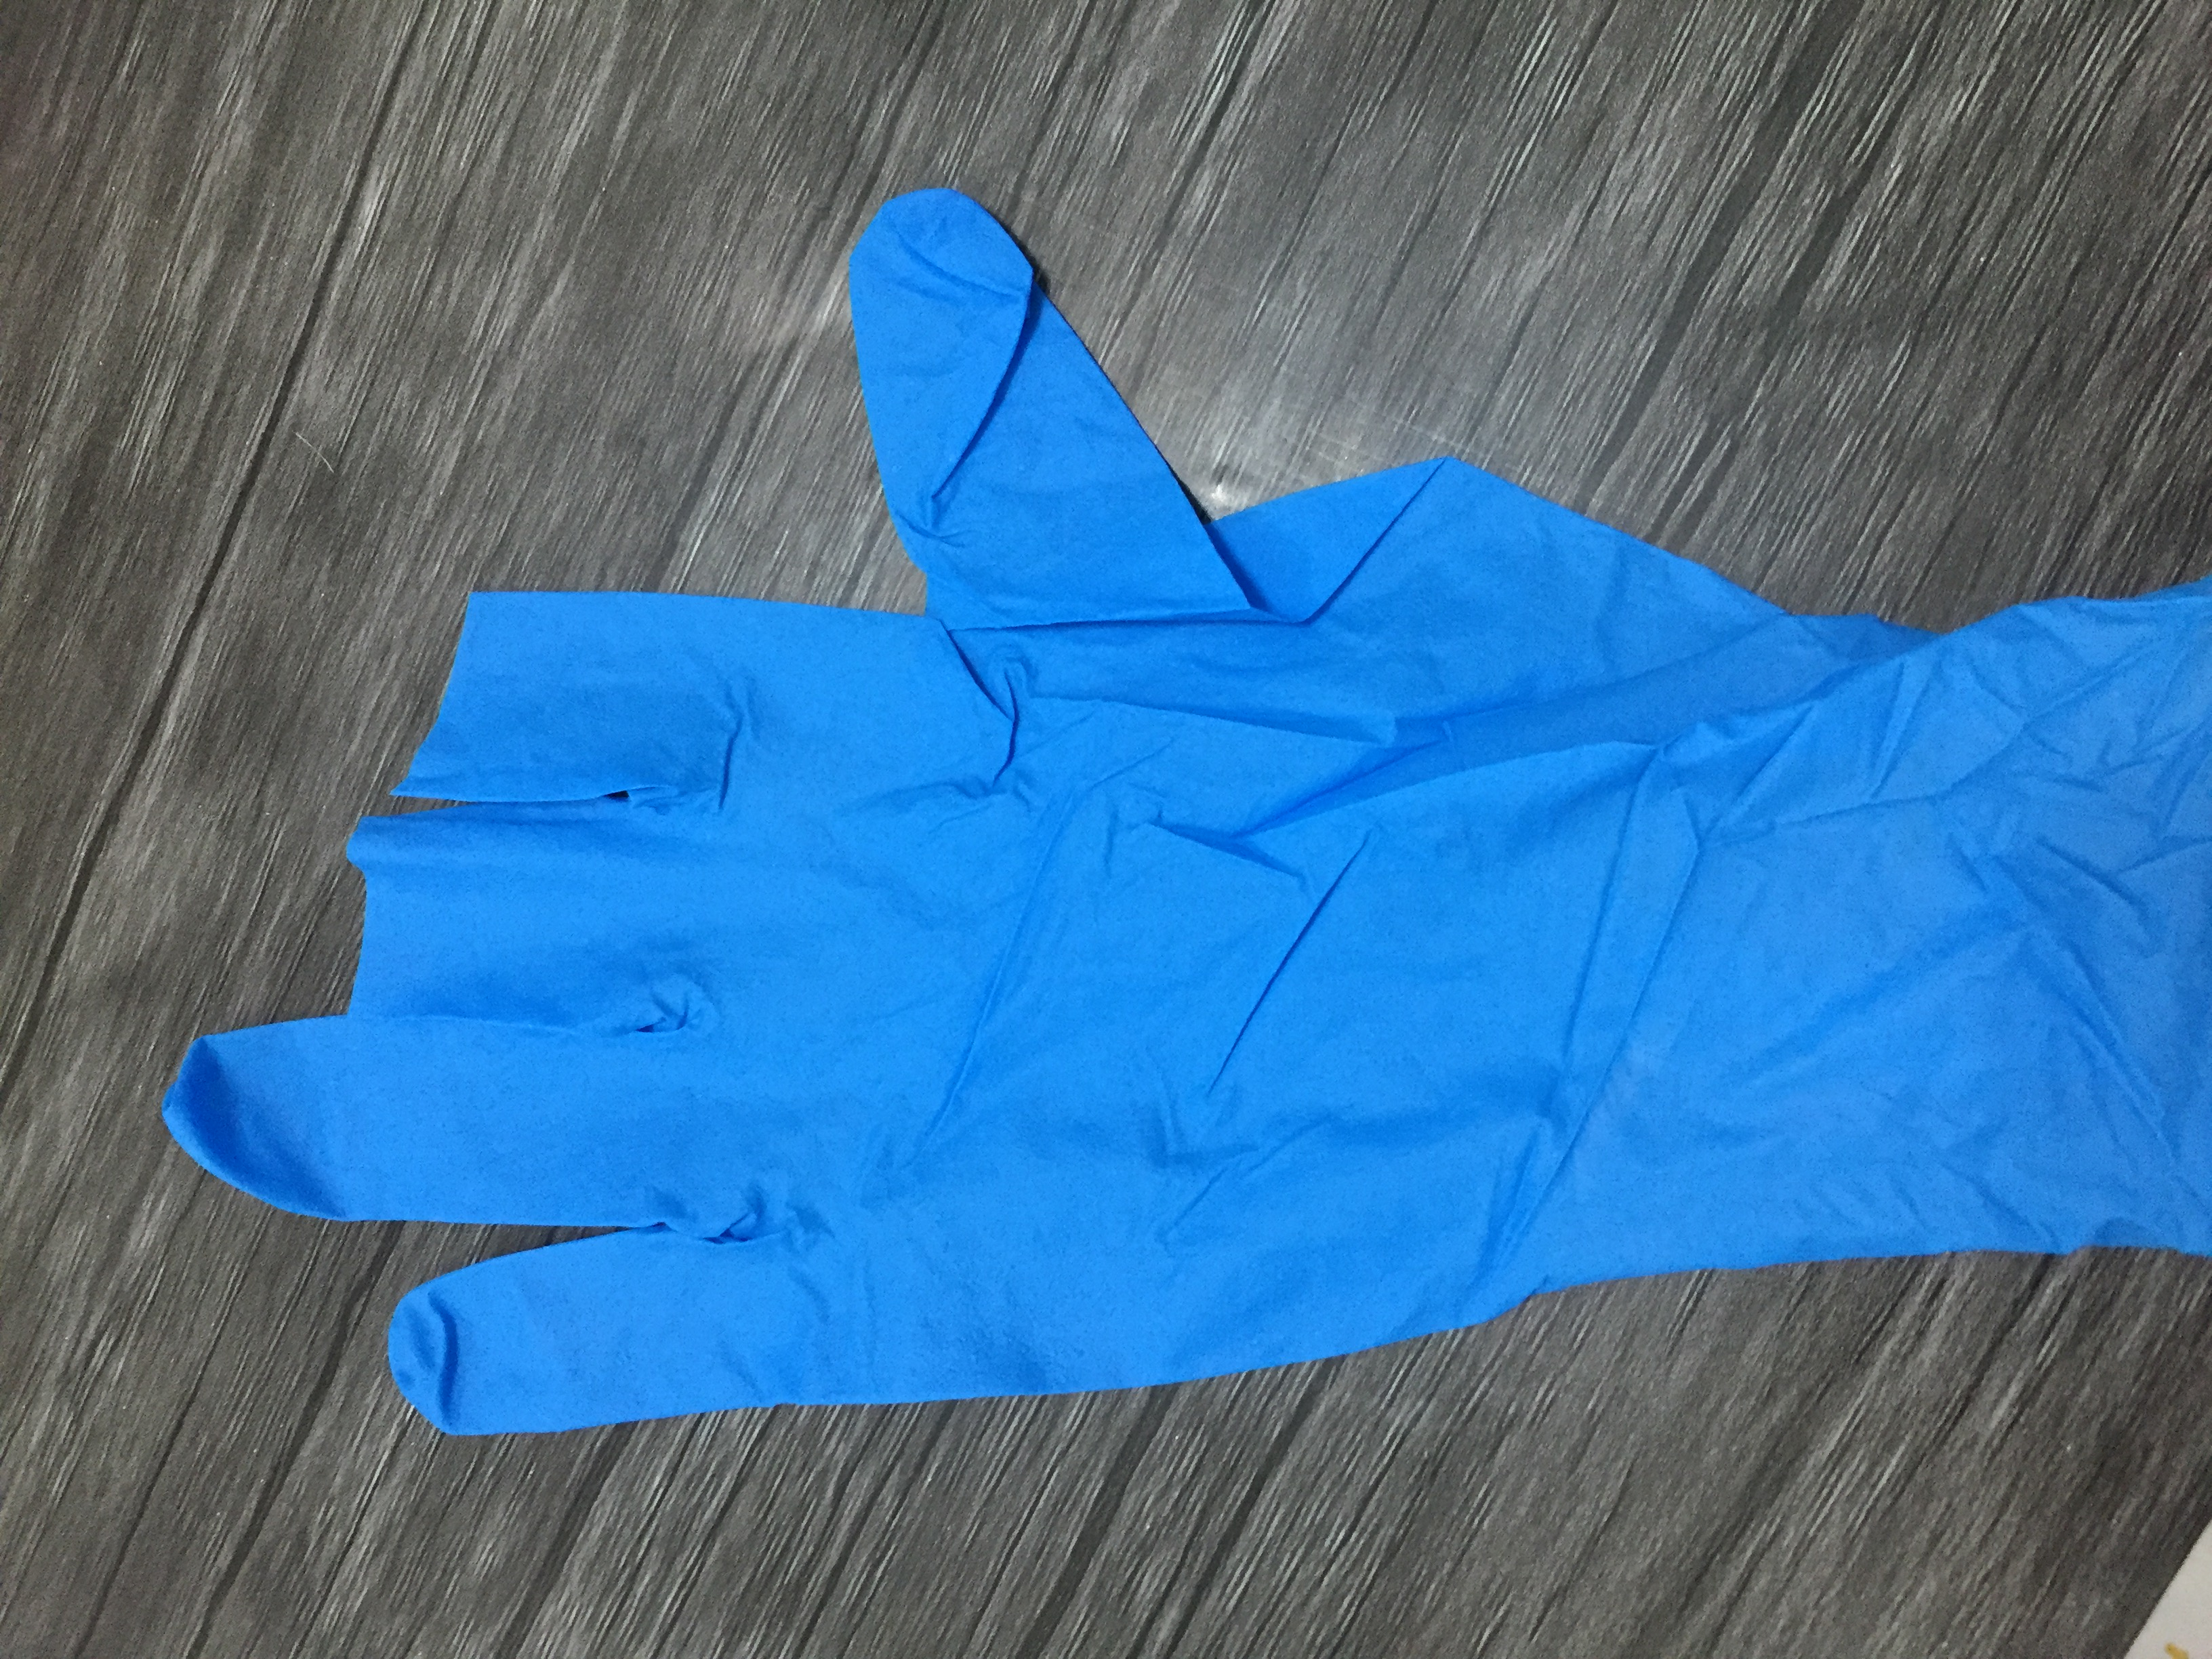defected: (70, 155, 2212, 1455)
